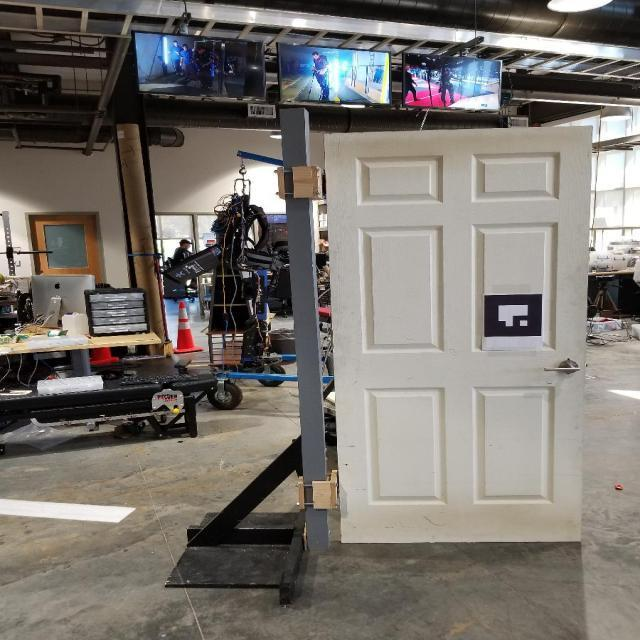door: (320, 122, 595, 546), (539, 356, 585, 376)
